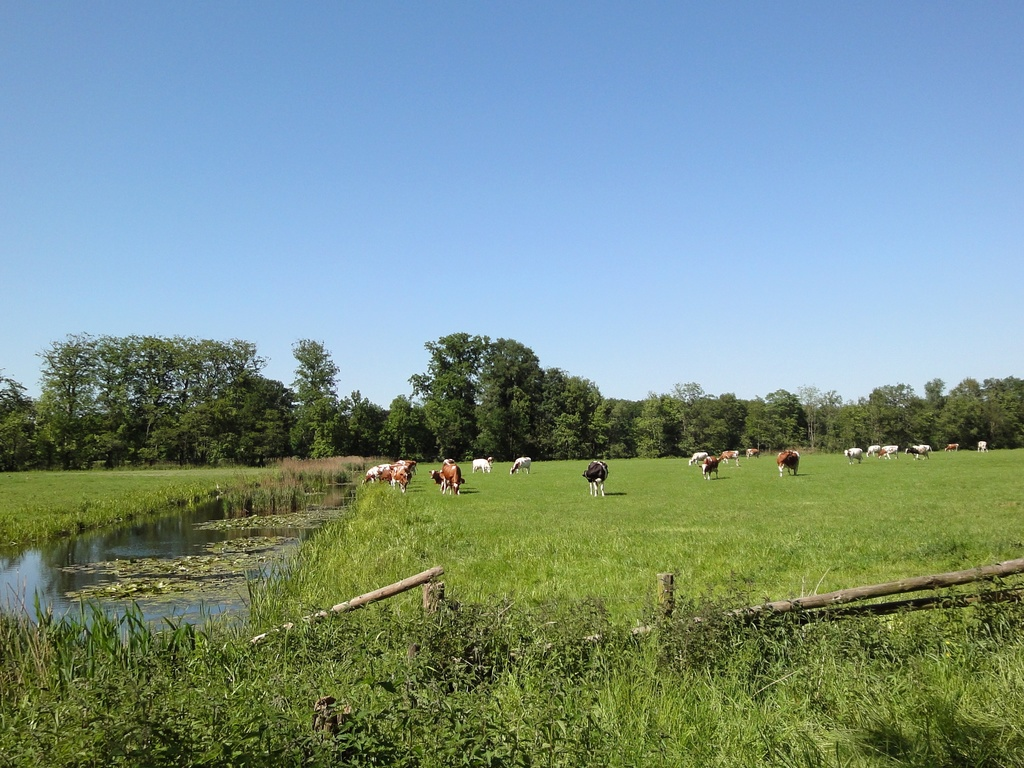Tree: (284, 334, 1023, 462), (37, 325, 305, 474), (0, 367, 51, 472)
